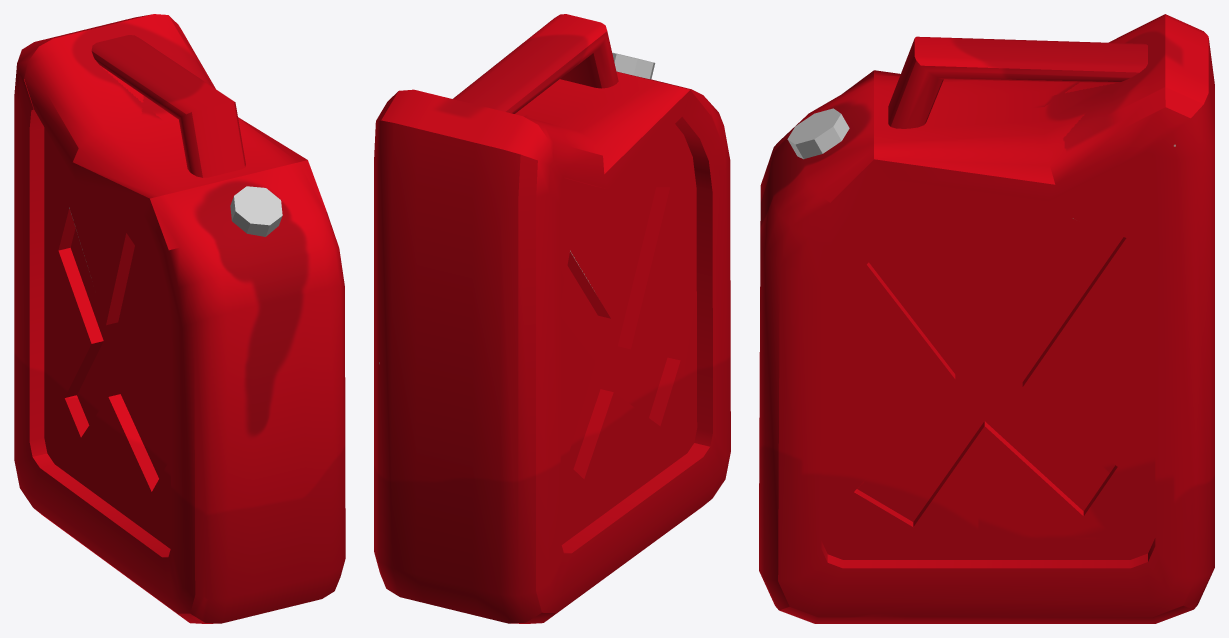
The model's file is gas_can.glb.
3 renders of one model, left to right at view 1: azimuth 30°, elevation 25°; view 2: azimuth 150°, elevation 25°; view 3: azimuth 270°, elevation 25°, orthographic. The views are drawn at different scales.
Visible parts, largest first — view 1: Cube, Cylinder; view 2: Cube, Cylinder; view 3: Cube, Cylinder.
Boxes of the visible parts, bbox=[...] form: Cube: bbox=[14, 14, 345, 623]; Cylinder: bbox=[230, 186, 282, 236]; Cube: bbox=[374, 14, 730, 623]; Cylinder: bbox=[612, 52, 655, 79]; Cube: bbox=[759, 14, 1214, 623]; Cylinder: bbox=[787, 108, 849, 159].
Bounding box in the file's own units: 0.8751 × 2.48 × 1.88.
Materials: 2 (2 with a texture image).
